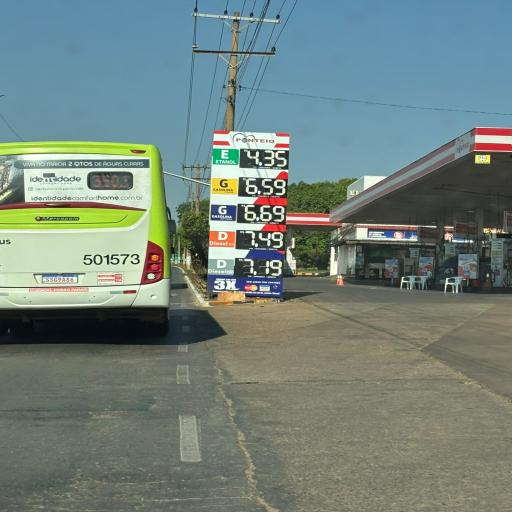ETANOL: (213, 149, 238, 165)
GASOLINA AD: (210, 204, 236, 221)
GASOLINA C: (213, 178, 236, 195)
S10: (208, 230, 236, 248)
S500: (208, 259, 234, 277)
placa: (208, 130, 287, 281)
preco: (244, 177, 288, 197), (243, 204, 286, 224), (241, 258, 283, 277), (243, 230, 286, 248), (244, 150, 287, 168)
